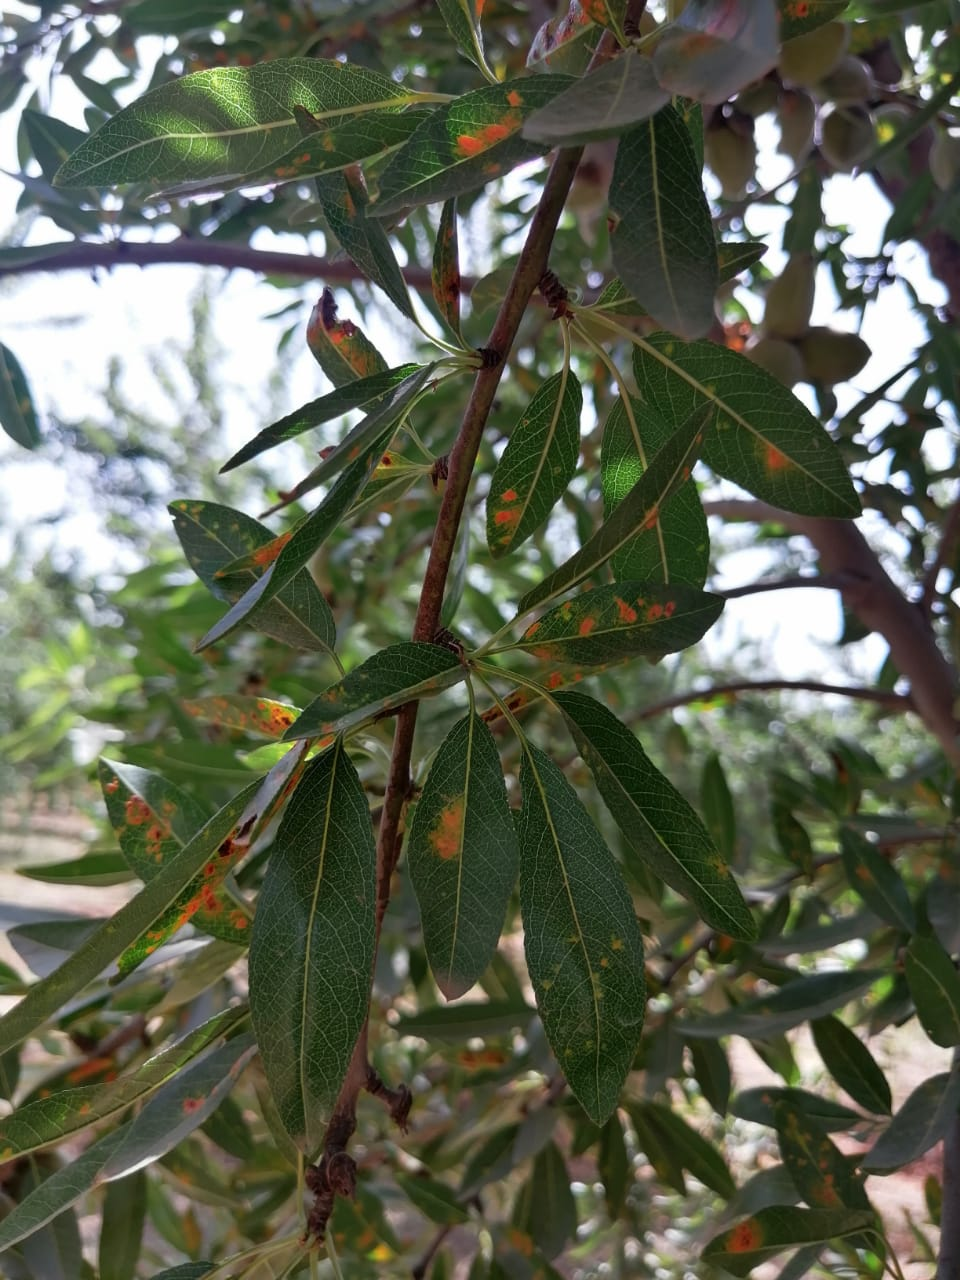polystigma: (626, 330, 863, 523), (1, 1006, 251, 1168), (363, 72, 587, 223), (92, 748, 261, 945), (411, 715, 518, 1006), (164, 496, 341, 657), (94, 1026, 261, 1191), (478, 369, 586, 560), (513, 583, 730, 672), (696, 1198, 860, 1273), (302, 296, 396, 418), (172, 688, 340, 745)
